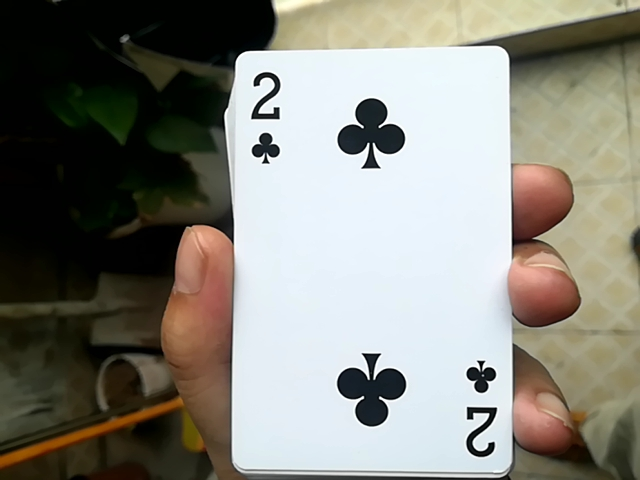mh 2: (220, 38, 509, 477)
